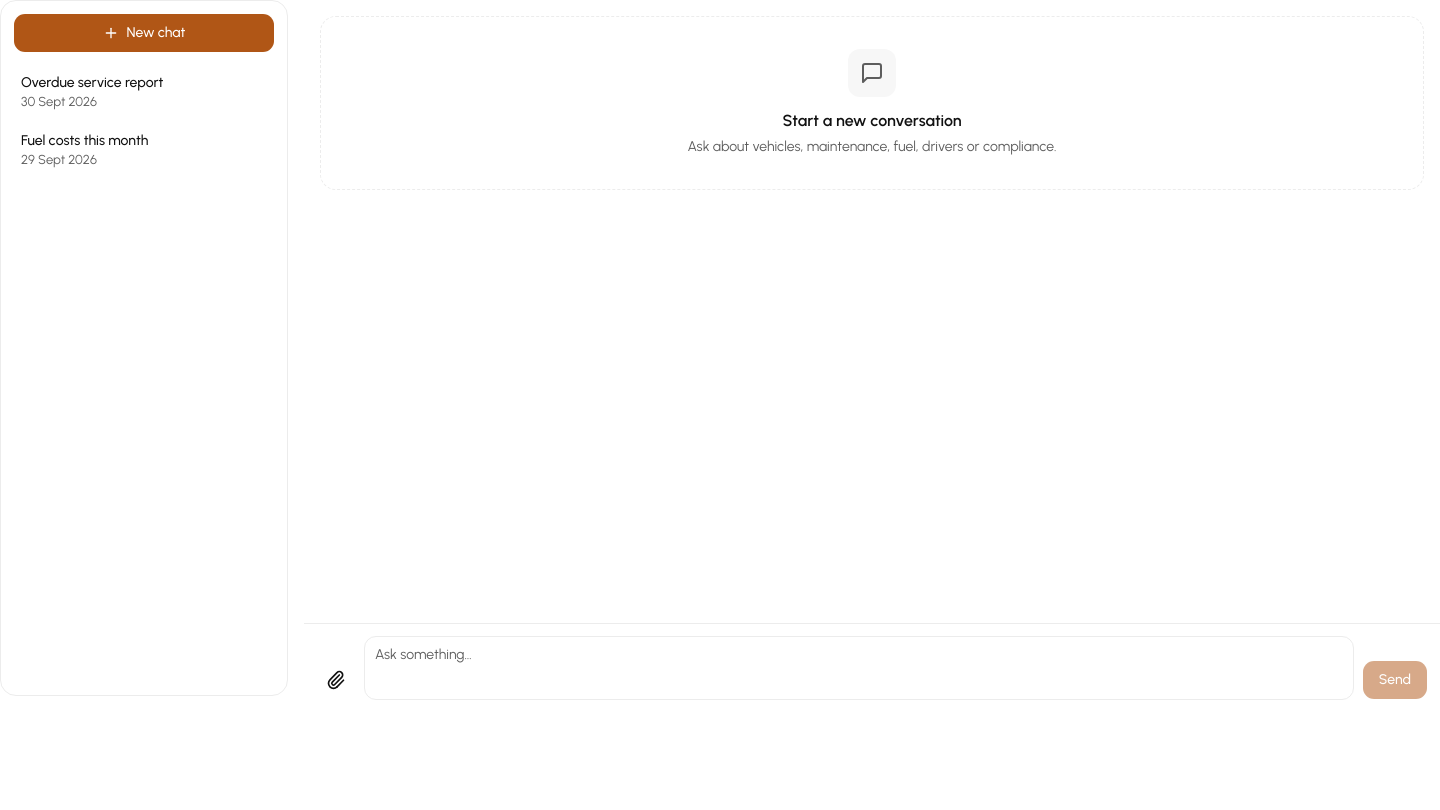
Test case: ChatPage › sending messages › if creating the session fails, shows the error and does not leave a phantom message
The image size is (1440, 810).
Type "hello?" into the text box with placeholder "Ask something…" at (859, 668), box [364,636,1354,700]
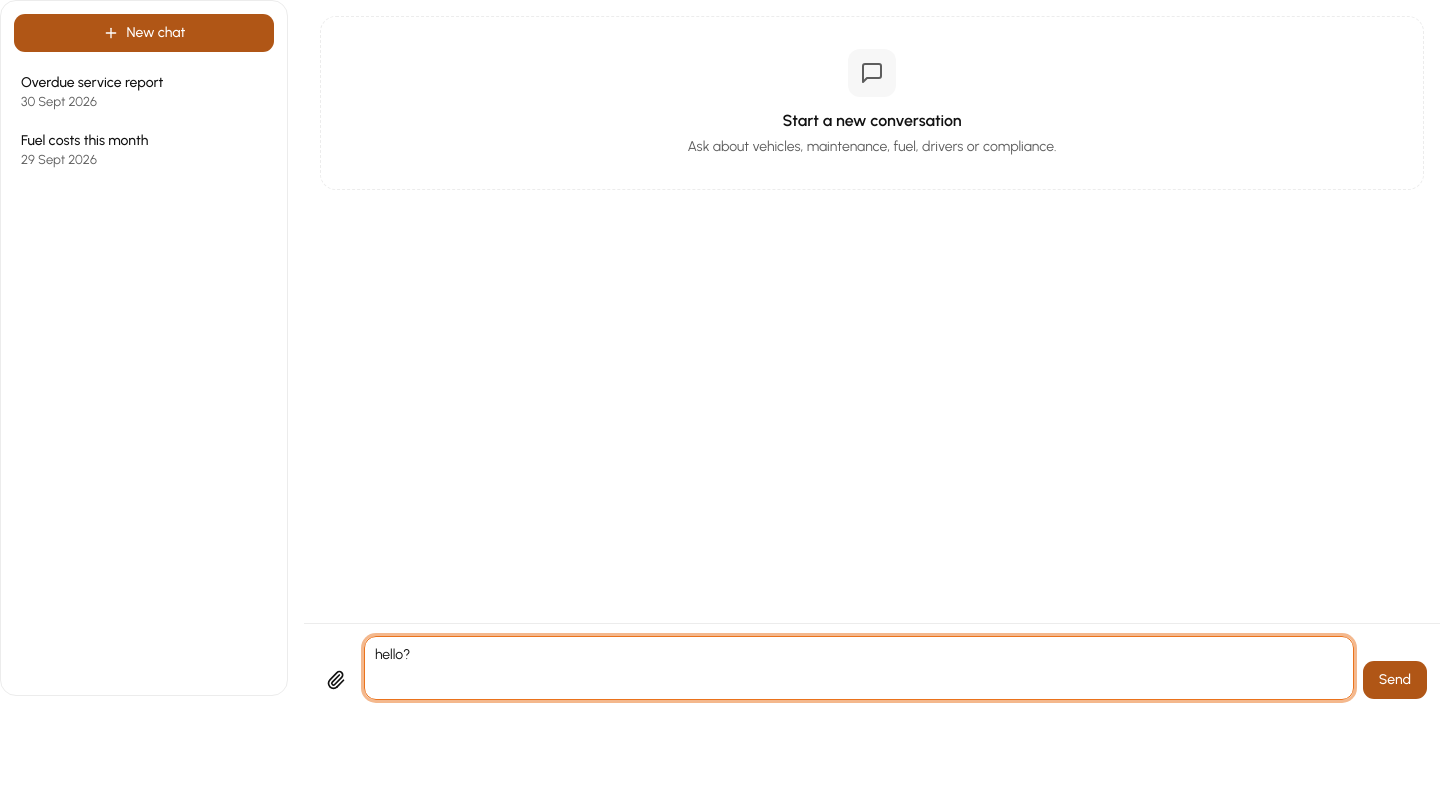
Click the button "Send" at (1395, 680), box [1362,660,1428,700]
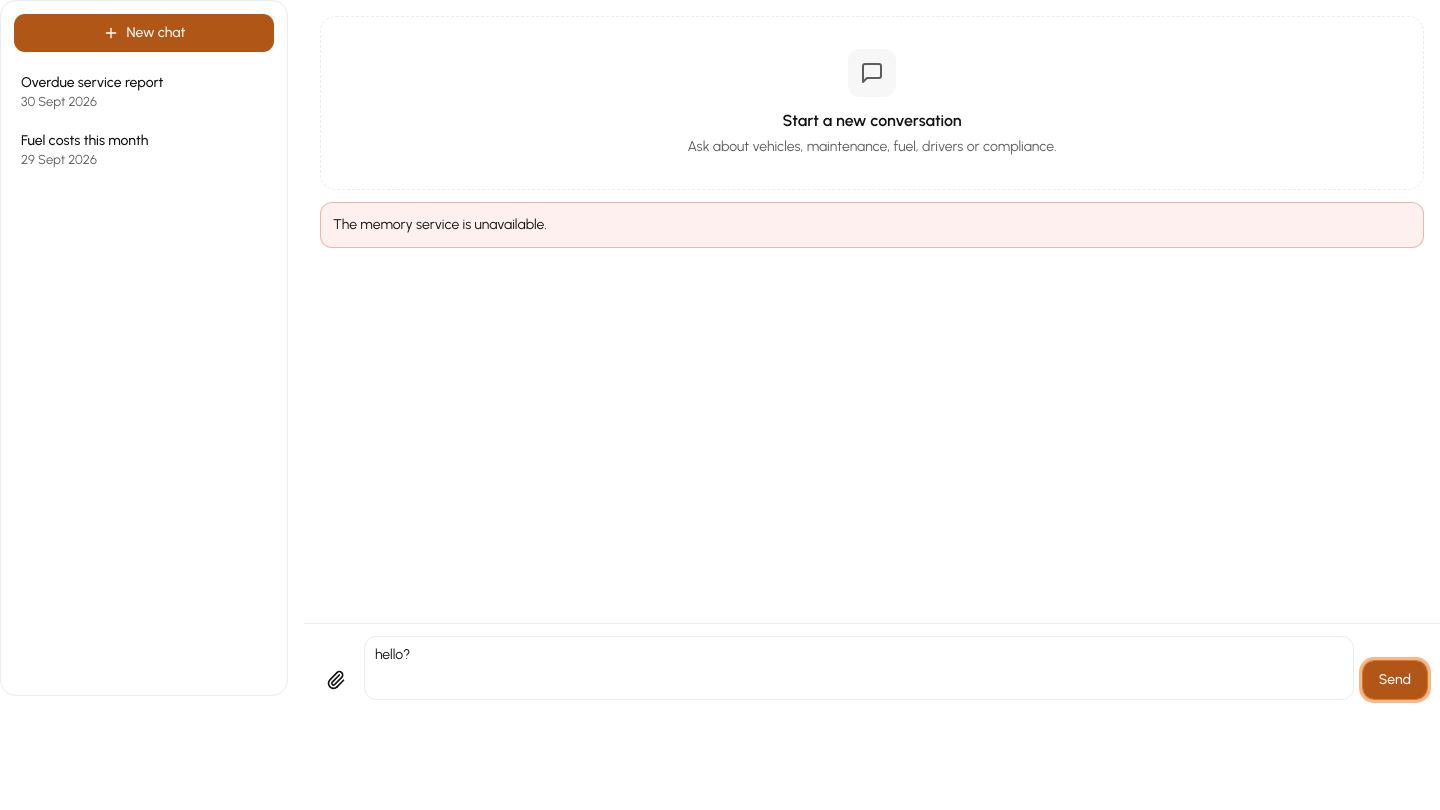
Now the message reads "The memory service is unavailable.", box [333,216,547,233]
